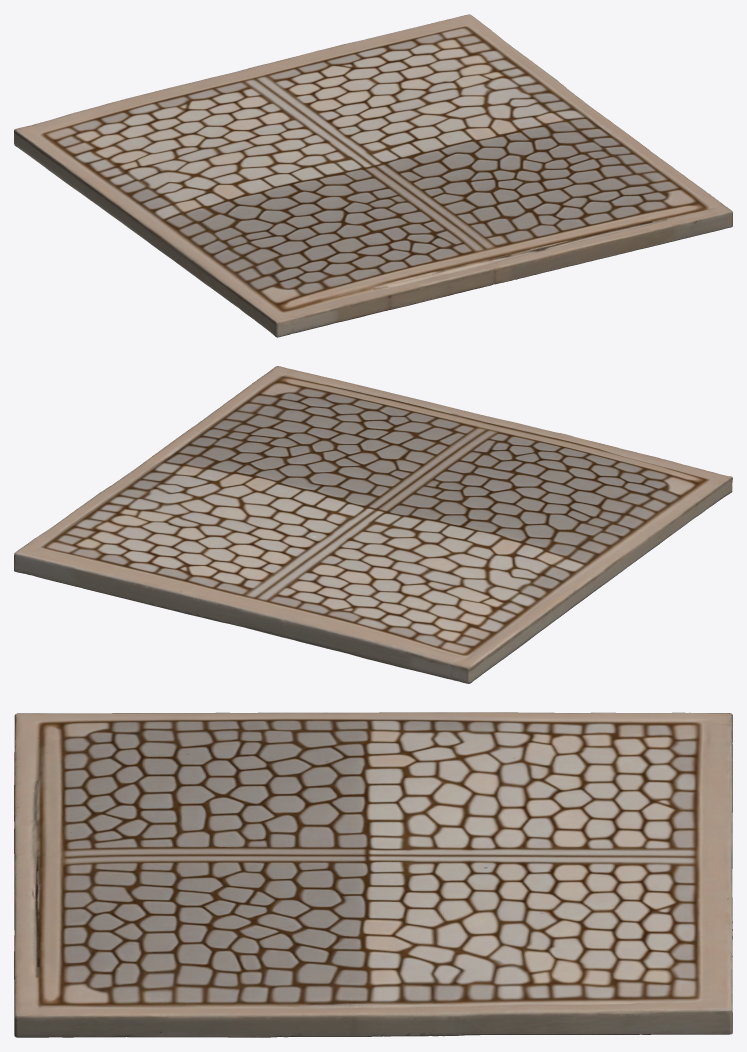
File: lantai.glb
3 renders of one model, top to bottom at view 1: azimuth 30°, elevation 25°; view 2: azimuth 150°, elevation 25°; view 3: azimuth 270°, elevation 25°, orthographic. The views are drawn at different scales.
Bounding box in the file's own units: 2 × 0.1062 × 2.
1 material, 1 textured.
